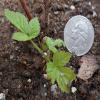Raspberry leaf: (4, 9, 29, 34), (56, 67, 78, 94), (52, 50, 71, 68), (29, 15, 40, 38), (44, 63, 57, 82), (11, 32, 33, 41)
